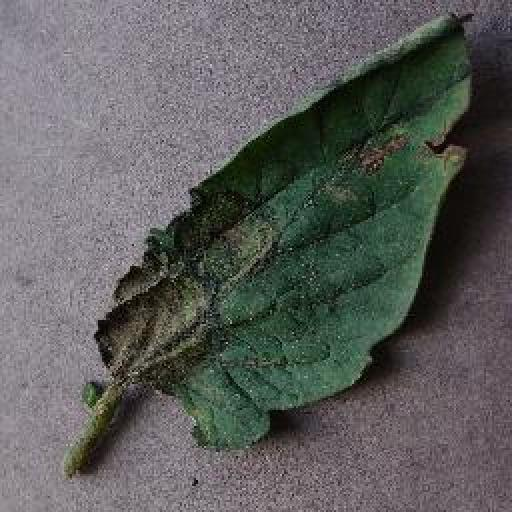disease_tomato: (99, 9, 477, 452)
